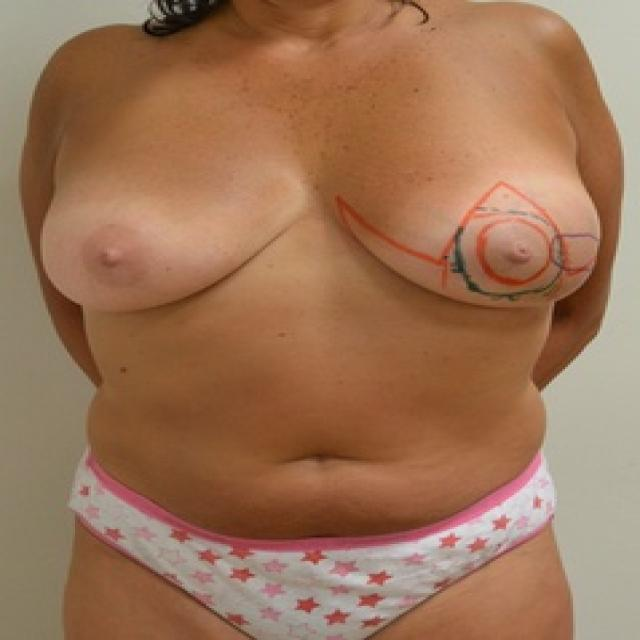Seno ileso: (320, 99, 613, 337), (31, 99, 313, 337)
